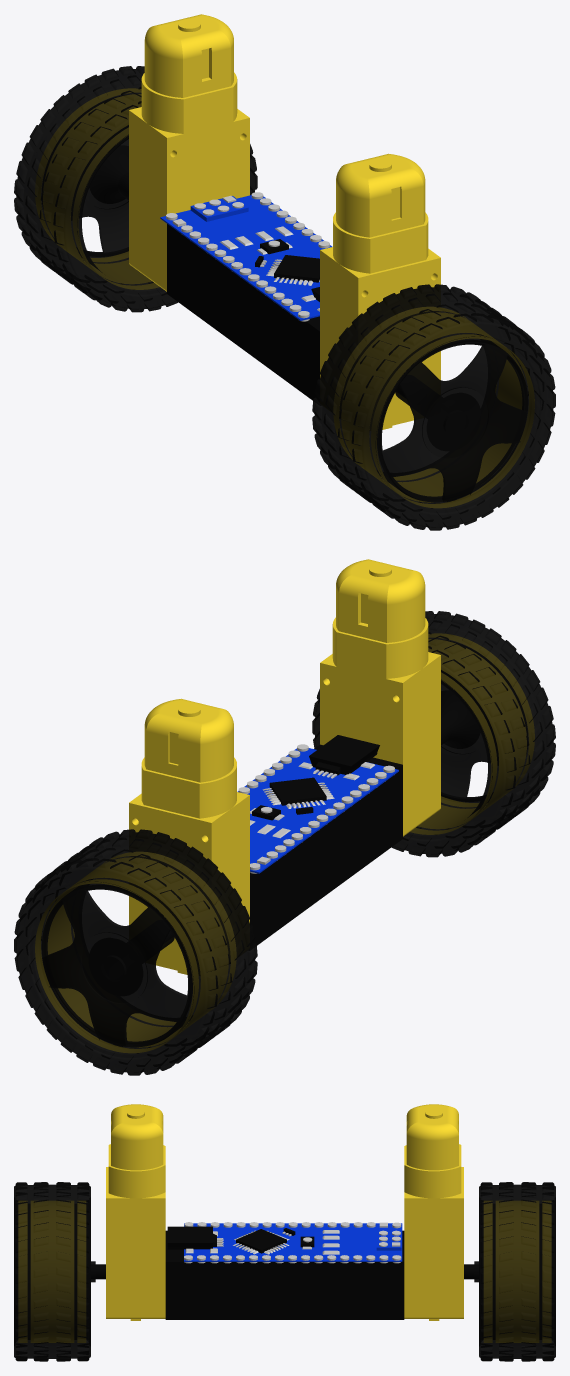
File: arduino 2.glb
3 renders of one model, top to bottom at view 1: azimuth 30°, elevation 25°; view 2: azimuth 150°, elevation 25°; view 3: azimuth 270°, elevation 25°, orthographic. The views are drawn at different scales.
Visible parts, largest first — view 1: wheel(BCE30D5E-7C42-45BC-BF5C-AA06AE76DDC4), wheel(EF7C8F6A-D142-46D6-BF14-680B55117D13), motor(6E7C6635-5C38-449D-8DD3-0E2DF14EBBA0), motor(9E1A3BA1-F6D5-4B94-89CE-26A4FED1DC66), wheel+motor(4695E13F-DE50-4C5A-91E0-5926DE52CDC2), wheel(2BC38C58-1953-49AD-A767-D57A3023F0A9), wheel+motor(F5524CE6-045B-44C5-B92C-A56B7CEB6B2C), wheel(DC925089-5A6C-421A-BF23-C5EE7D8FBB39), wheel(EC40F806-4BD9-46F5-8765-1738EACB93AA), wheel+motor(E947673D-E09F-4CAC-90C1-D7380630819E), wheel(A81C26A5-F5FD-4E99-9B6E-7C4D3FBB5ECF), wheel+motor(64D43DAD-3A2B-40BD-A27D-C5E4389BC33C) (+3 smaller); view 2: wheel(EF7C8F6A-D142-46D6-BF14-680B55117D13), wheel(BCE30D5E-7C42-45BC-BF5C-AA06AE76DDC4), motor(9E1A3BA1-F6D5-4B94-89CE-26A4FED1DC66), motor(6E7C6635-5C38-449D-8DD3-0E2DF14EBBA0), wheel+motor(4695E13F-DE50-4C5A-91E0-5926DE52CDC2), wheel(DC925089-5A6C-421A-BF23-C5EE7D8FBB39), wheel(2BC38C58-1953-49AD-A767-D57A3023F0A9), wheel+motor(F5524CE6-045B-44C5-B92C-A56B7CEB6B2C), wheel+motor(64D43DAD-3A2B-40BD-A27D-C5E4389BC33C), wheel(3ECCF23D-952B-4E20-90D8-A8678CE90131), wheel+motor(E947673D-E09F-4CAC-90C1-D7380630819E), wheel(3A1440C6-D6B3-4723-90C2-44773FB29E9D) (+3 smaller); view 3: wheel+motor(4695E13F-DE50-4C5A-91E0-5926DE52CDC2), wheel(BCE30D5E-7C42-45BC-BF5C-AA06AE76DDC4), wheel(EF7C8F6A-D142-46D6-BF14-680B55117D13), motor(9E1A3BA1-F6D5-4B94-89CE-26A4FED1DC66), motor(6E7C6635-5C38-449D-8DD3-0E2DF14EBBA0), wheel(2BC38C58-1953-49AD-A767-D57A3023F0A9), wheel(DC925089-5A6C-421A-BF23-C5EE7D8FBB39), wheel+motor(F5524CE6-045B-44C5-B92C-A56B7CEB6B2C), wheel+motor(64D43DAD-3A2B-40BD-A27D-C5E4389BC33C), wheel+motor(E947673D-E09F-4CAC-90C1-D7380630819E), wheel(EC40F806-4BD9-46F5-8765-1738EACB93AA), wheel(3ECCF23D-952B-4E20-90D8-A8678CE90131) (+3 smaller).
Part boxes in pixels (box(x1,y1,x2,y2)): wheel(BCE30D5E-7C42-45BC-BF5C-AA06AE76DDC4): box(312, 284, 555, 530); wheel(EF7C8F6A-D142-46D6-BF14-680B55117D13): box(14, 66, 257, 312); motor(6E7C6635-5C38-449D-8DD3-0E2DF14EBBA0): box(129, 14, 249, 291); motor(9E1A3BA1-F6D5-4B94-89CE-26A4FED1DC66): box(320, 153, 440, 429); wheel+motor(4695E13F-DE50-4C5A-91E0-5926DE52CDC2): box(167, 224, 319, 400); wheel(2BC38C58-1953-49AD-A767-D57A3023F0A9): box(341, 312, 522, 502); wheel+motor(F5524CE6-045B-44C5-B92C-A56B7CEB6B2C): box(160, 195, 332, 320); wheel(DC925089-5A6C-421A-BF23-C5EE7D8FBB39): box(43, 94, 150, 283); wheel(EC40F806-4BD9-46F5-8765-1738EACB93AA): box(371, 334, 534, 507); wheel+motor(E947673D-E09F-4CAC-90C1-D7380630819E): box(166, 192, 330, 321); wheel(A81C26A5-F5FD-4E99-9B6E-7C4D3FBB5ECF): box(333, 307, 496, 480); wheel+motor(64D43DAD-3A2B-40BD-A27D-C5E4389BC33C): box(255, 239, 319, 301); wheel(EF7C8F6A-D142-46D6-BF14-680B55117D13): box(14, 829, 257, 1075); wheel(BCE30D5E-7C42-45BC-BF5C-AA06AE76DDC4): box(312, 611, 555, 857); motor(9E1A3BA1-F6D5-4B94-89CE-26A4FED1DC66): box(320, 559, 440, 836); motor(6E7C6635-5C38-449D-8DD3-0E2DF14EBBA0): box(129, 698, 249, 974); wheel+motor(4695E13F-DE50-4C5A-91E0-5926DE52CDC2): box(250, 744, 402, 945); wheel(DC925089-5A6C-421A-BF23-C5EE7D8FBB39): box(47, 857, 228, 1047); wheel(2BC38C58-1953-49AD-A767-D57A3023F0A9): box(419, 639, 526, 828); wheel+motor(F5524CE6-045B-44C5-B92C-A56B7CEB6B2C): box(237, 748, 398, 873); wheel+motor(64D43DAD-3A2B-40BD-A27D-C5E4389BC33C): box(252, 735, 379, 820); wheel(3ECCF23D-952B-4E20-90D8-A8678CE90131): box(35, 879, 198, 1052); wheel+motor(E947673D-E09F-4CAC-90C1-D7380630819E): box(238, 744, 394, 873); wheel(3A1440C6-D6B3-4723-90C2-44773FB29E9D): box(73, 852, 236, 1025); wheel+motor(4695E13F-DE50-4C5A-91E0-5926DE52CDC2): box(165, 1230, 404, 1319); wheel(BCE30D5E-7C42-45BC-BF5C-AA06AE76DDC4): box(14, 1182, 95, 1361); wheel(EF7C8F6A-D142-46D6-BF14-680B55117D13): box(474, 1182, 555, 1361); motor(9E1A3BA1-F6D5-4B94-89CE-26A4FED1DC66): box(106, 1104, 165, 1320); motor(6E7C6635-5C38-449D-8DD3-0E2DF14EBBA0): box(404, 1104, 463, 1320); wheel(2BC38C58-1953-49AD-A767-D57A3023F0A9): box(31, 1201, 73, 1342); wheel(DC925089-5A6C-421A-BF23-C5EE7D8FBB39): box(496, 1201, 538, 1342); wheel+motor(F5524CE6-045B-44C5-B92C-A56B7CEB6B2C): box(184, 1223, 402, 1261); wheel+motor(64D43DAD-3A2B-40BD-A27D-C5E4389BC33C): box(167, 1226, 314, 1253); wheel+motor(E947673D-E09F-4CAC-90C1-D7380630819E): box(184, 1222, 401, 1263); wheel(EC40F806-4BD9-46F5-8765-1738EACB93AA): box(18, 1201, 27, 1342); wheel(3ECCF23D-952B-4E20-90D8-A8678CE90131): box(542, 1201, 551, 1342).
Size of the model in its own units: 0.0602 by 0.0891 by 0.1818.
